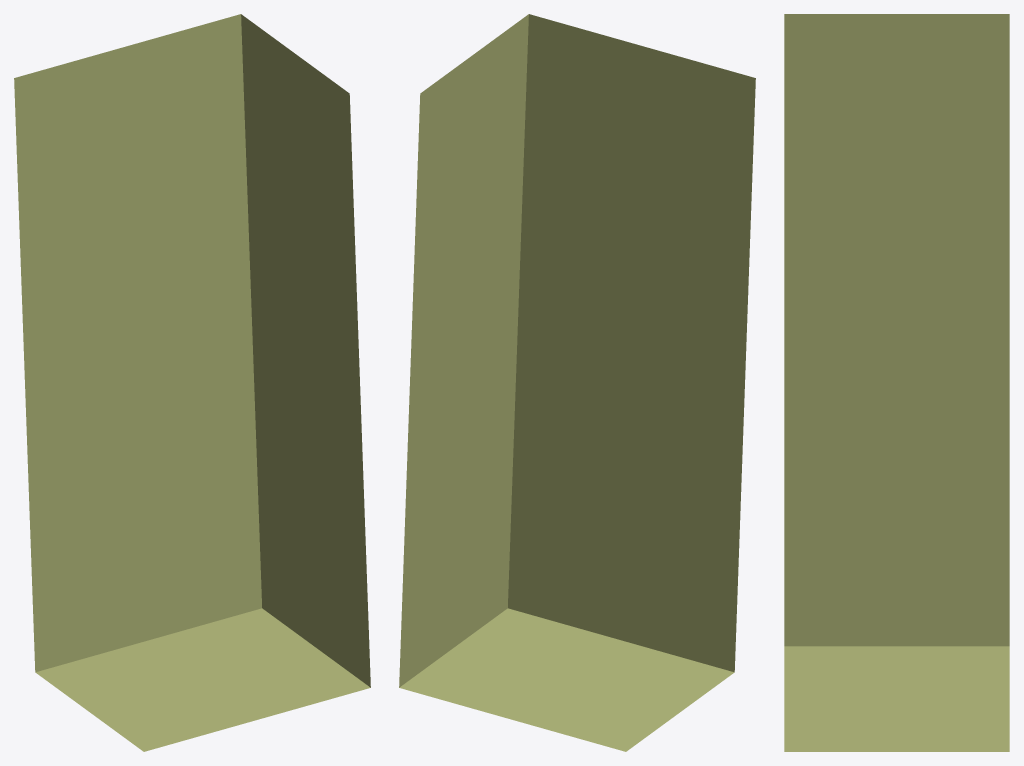
3 views of the same model, side by side, from view 1: azimuth 30°, elevation 25°; view 2: azimuth 150°, elevation 25°; view 3: azimuth 270°, elevation 25° (orthographic). The views are drawn at different scales.
Parts seen in each view (by area): view 1: 0_2_1_0_0_3_3_0_3_3; view 2: 0_2_1_0_0_3_3_0_3_3; view 3: 0_2_1_0_0_3_3_0_3_3.
Part boxes in pixels (x1,y1,x2,y2): 0_2_1_0_0_3_3_0_3_3: [14, 14, 370, 751]; 0_2_1_0_0_3_3_0_3_3: [399, 14, 755, 751]; 0_2_1_0_0_3_3_0_3_3: [784, 14, 1009, 751].
Size of the model in its own units: 7.91 by 18.52 by 6.
